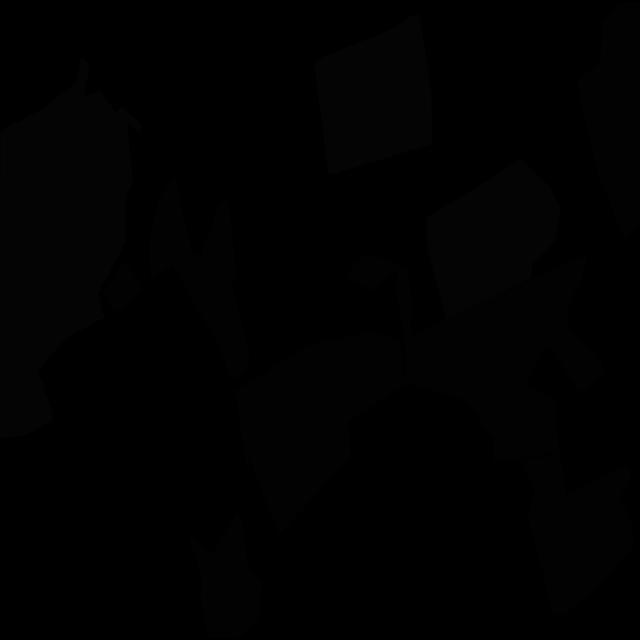cardboard: (346, 253, 606, 461), (235, 332, 406, 534), (104, 176, 250, 380), (521, 424, 634, 618), (576, 1, 640, 241), (187, 511, 261, 639)
soft_plastic: (0, 57, 142, 439), (426, 159, 561, 319), (314, 14, 432, 175)
